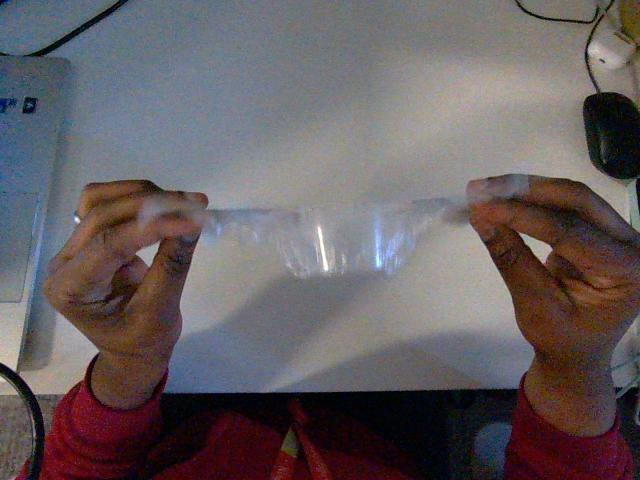gallipot: (139, 197, 467, 276), (193, 198, 465, 276), (205, 199, 455, 276)
